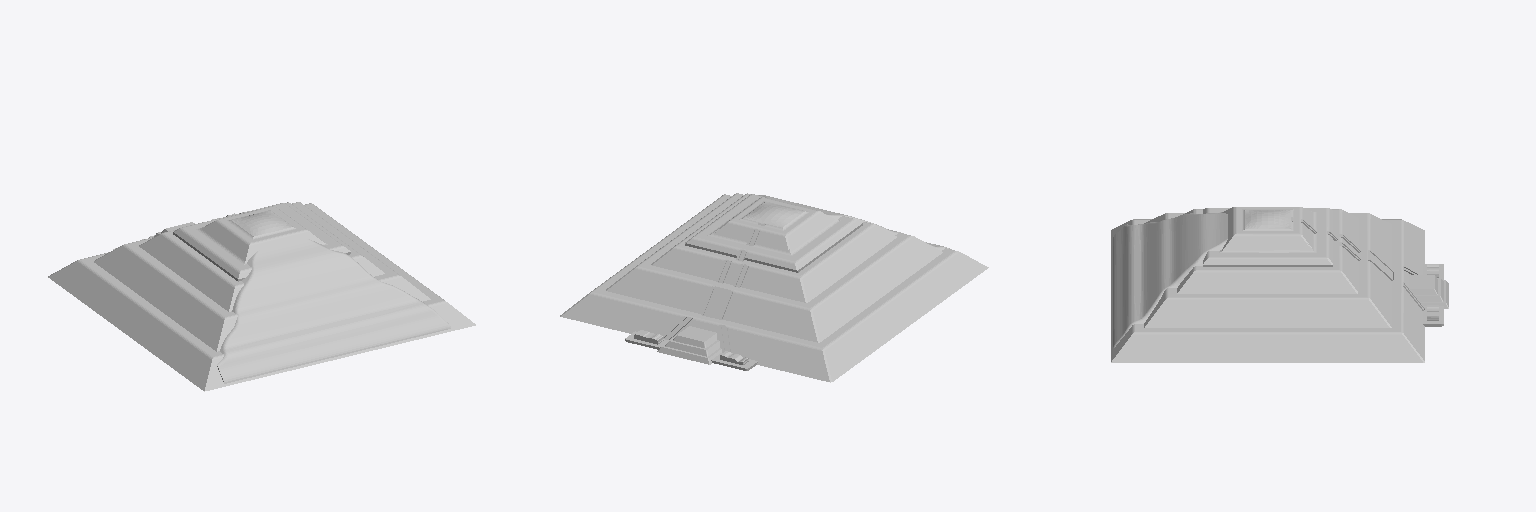
Rendered from pSol.obj.
3 views of the same model, side by side, from view 1: azimuth 30°, elevation 25°; view 2: azimuth 150°, elevation 25°; view 3: azimuth 270°, elevation 25° (orthographic).
Visible parts, largest first — view 1: PiramideSol_Material.001, PiramideSol_Material.002; view 2: PiramideSol_Material.001, PiramideSol_Material.002; view 3: PiramideSol_Material.001, PiramideSol_Material.002.
Boxes of the visible parts, <box> form: PiramideSol_Material.001: <box>48,202,475,391</box>; PiramideSol_Material.002: <box>113,207,303,249</box>; PiramideSol_Material.001: <box>560,193,988,382</box>; PiramideSol_Material.002: <box>593,198,820,370</box>; PiramideSol_Material.001: <box>1111,207,1443,362</box>; PiramideSol_Material.002: <box>1236,207,1448,332</box>.
Size of the model in its own units: 22.73 by 6.45 by 24.47.